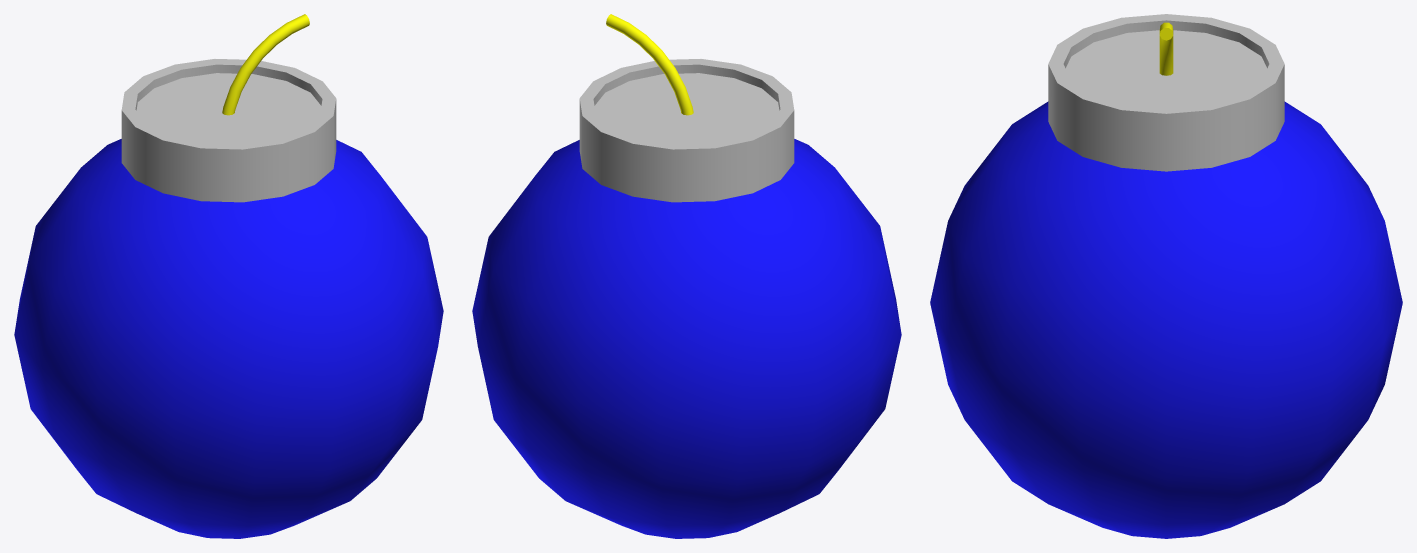
Rendered from Bomb.fbx.
The picture shows the model from 3 angles, left to right: view 1: azimuth 30°, elevation 25°; view 2: azimuth 150°, elevation 25°; view 3: azimuth 270°, elevation 25°; orthographic projection. The views are drawn at different scales.
Parts seen in each view (by area): view 1: Sphere, Cylinder, Cylinder.1; view 2: Sphere, Cylinder, Cylinder.1; view 3: Sphere, Cylinder, Cylinder.1.
Part boxes in pixels (box(x1,y1,x2,y2)): Sphere: box(14, 139, 443, 538); Cylinder: box(121, 59, 336, 202); Cylinder.1: box(222, 14, 309, 115); Sphere: box(472, 139, 901, 538); Cylinder: box(579, 59, 794, 202); Cylinder.1: box(606, 14, 693, 115); Sphere: box(930, 101, 1402, 538); Cylinder: box(1048, 14, 1284, 171); Cylinder.1: box(1159, 22, 1173, 75).
Bounding box in the file's own units: 21.28 × 26.33 × 21.28.
